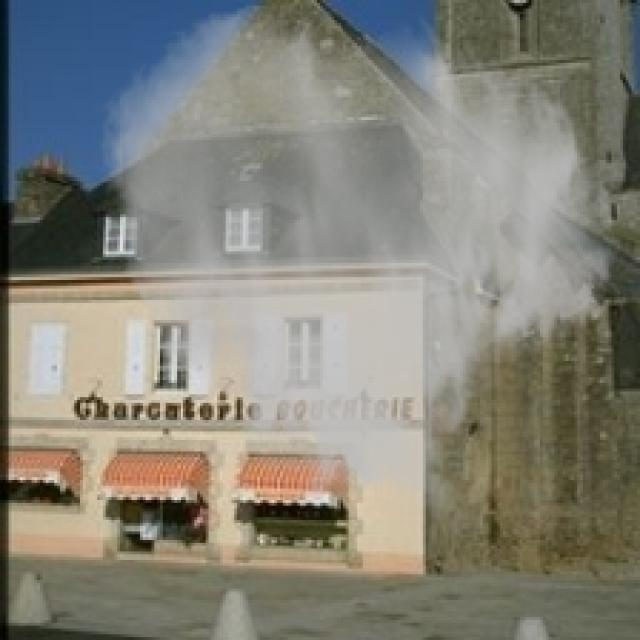Smoke: (97, 0, 620, 523)
